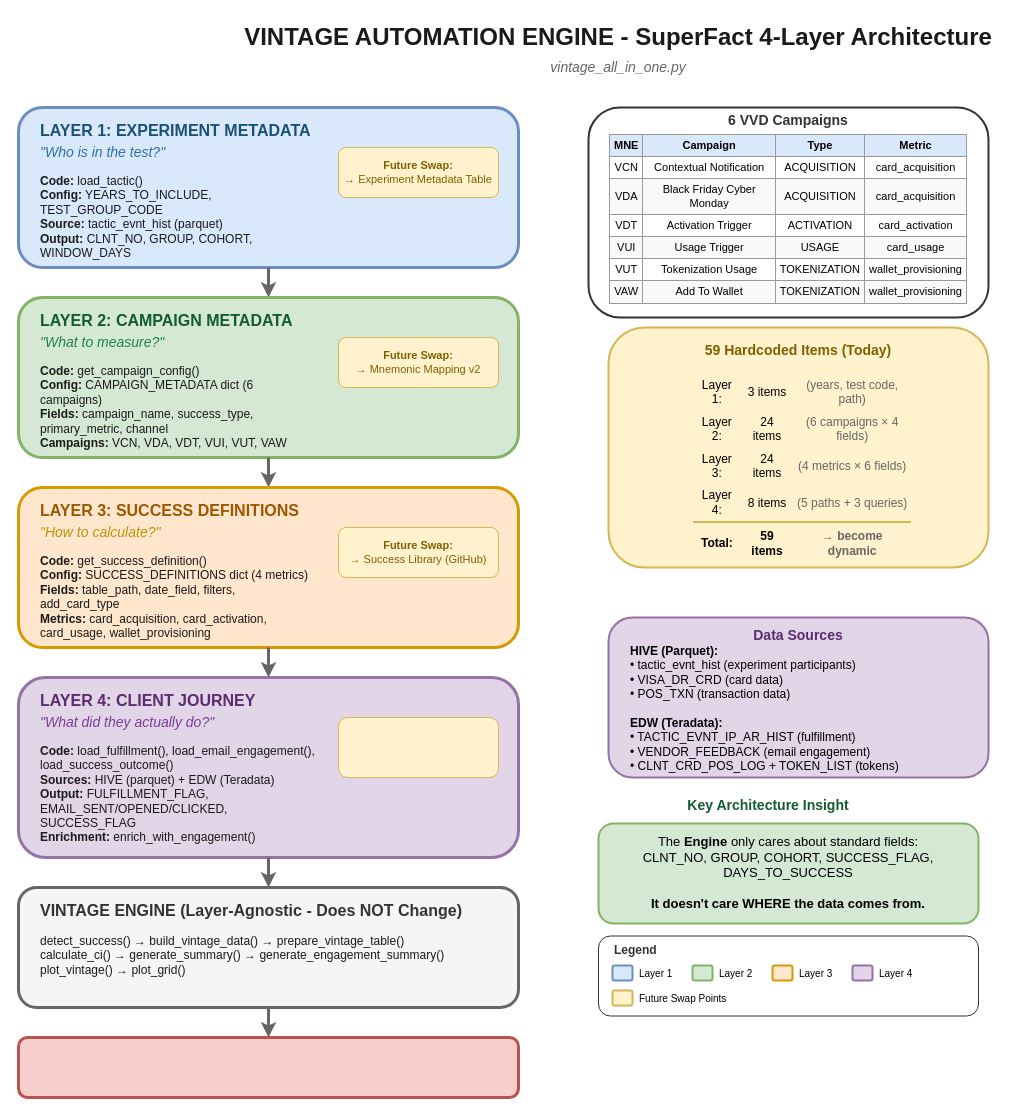
The diagram is 1036 pixels wide and 1116 high, and some of its shapes have lost their labels. Here are the shapes that lost their labels. From the top down, the centre of each, then its label:
At (x=418, y=747): "Future Swap: → Unified Client Journey Semantic Layer".
At (x=268, y=1067): "OUTPUT: vintage_df, summary_df, engagement_summary_df → Dashboard / CSV / HDFS".
